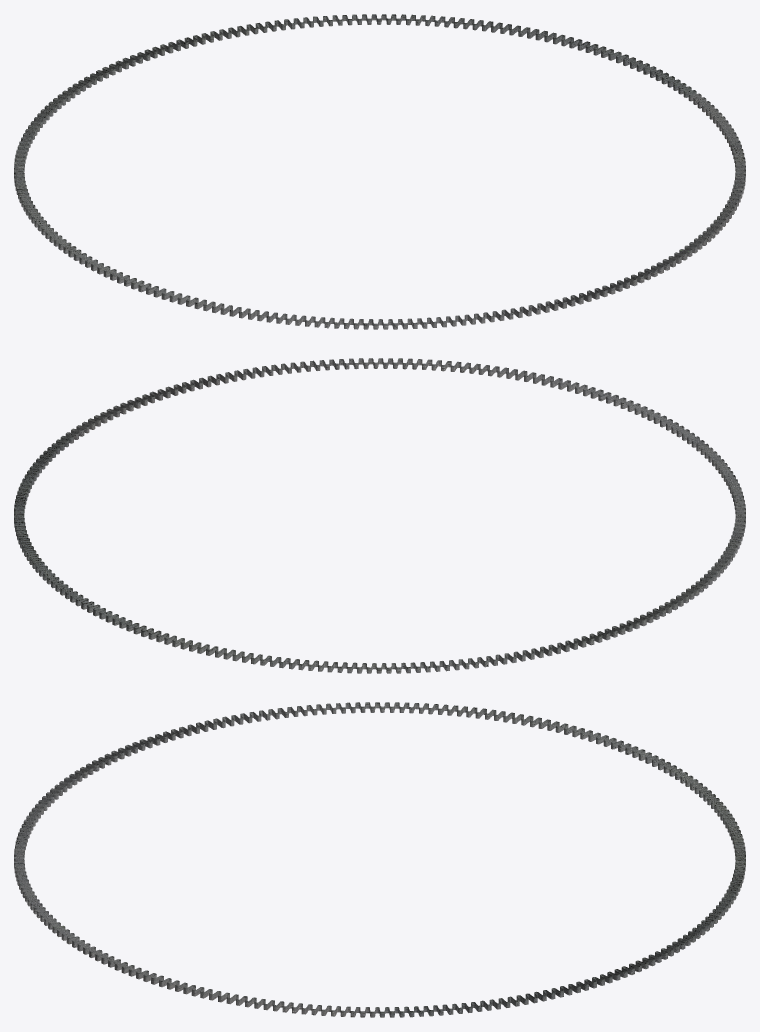
3 renders of one model, top to bottom at view 1: azimuth 30°, elevation 25°; view 2: azimuth 150°, elevation 25°; view 3: azimuth 270°, elevation 25°, orthographic.
Visible parts, largest first — view 1: 03_HZ_circle02IN; view 2: 03_HZ_circle02IN; view 3: 03_HZ_circle02IN.
Part boxes in pixels (x1,y1,x2,y2): 03_HZ_circle02IN: (14, 14, 745, 329); 03_HZ_circle02IN: (14, 358, 745, 673); 03_HZ_circle02IN: (14, 702, 745, 1017).
Bounding box in the file's own units: 2166 × 20.34 × 2166.
